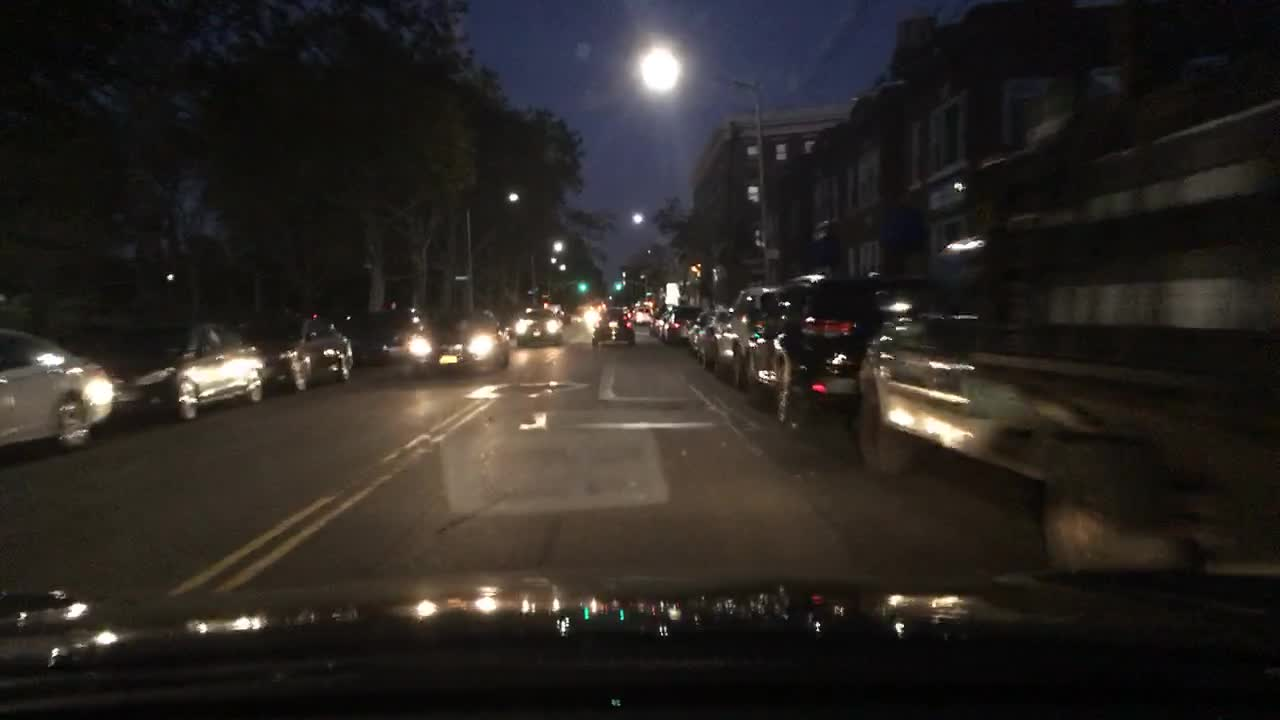car: (844, 89, 1279, 580), (739, 269, 904, 433), (86, 315, 271, 425), (0, 324, 118, 457), (233, 308, 357, 397), (401, 307, 513, 380), (711, 284, 783, 394), (336, 305, 427, 370), (691, 304, 735, 370), (588, 304, 638, 347), (513, 307, 564, 347), (661, 301, 707, 343), (680, 309, 715, 356), (647, 302, 683, 339), (520, 301, 567, 317), (655, 305, 673, 341), (634, 304, 656, 325)
traffic light: (452, 273, 470, 281), (614, 281, 625, 293), (578, 280, 588, 293), (644, 289, 655, 298)
